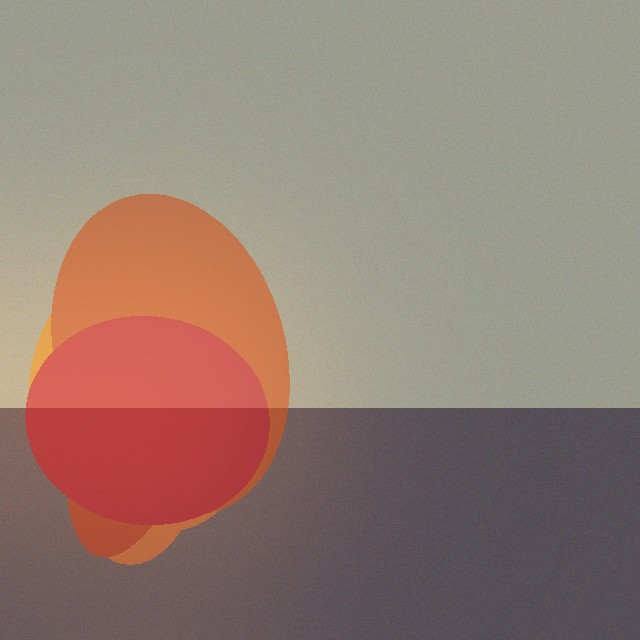fire: (86, 292, 210, 532)
